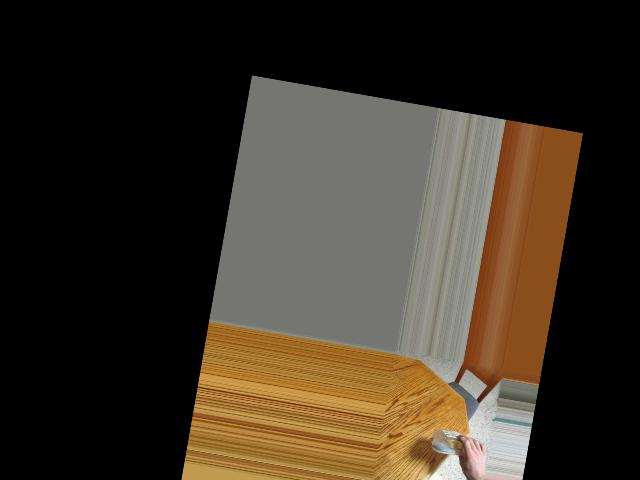cheese: (431, 421, 482, 467)
